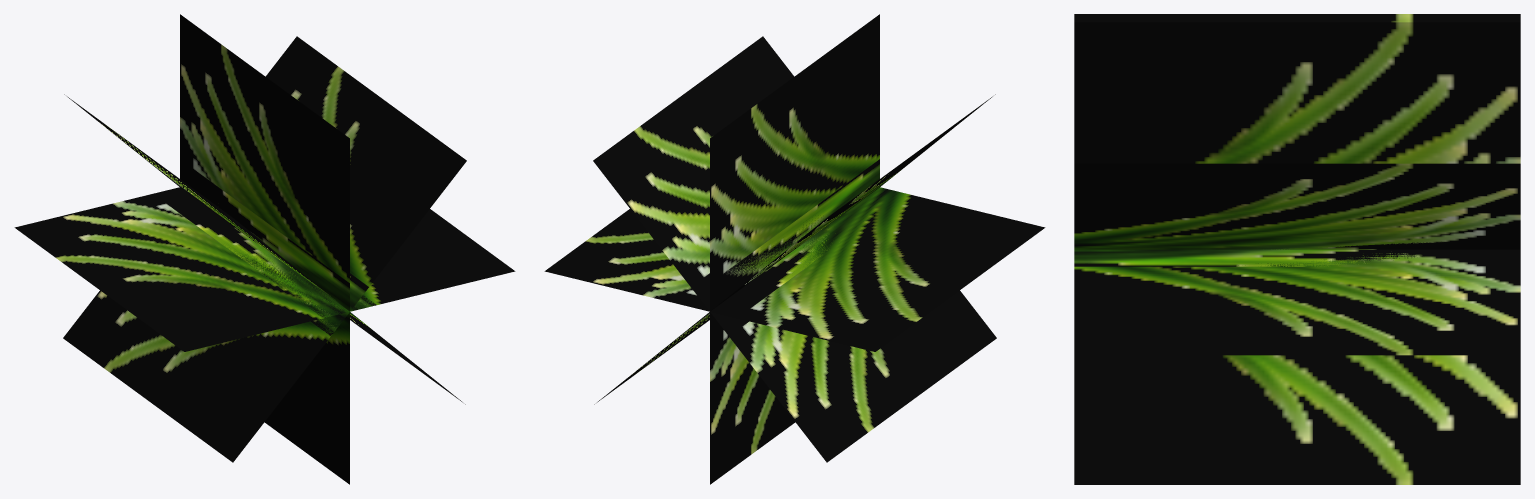
Rendered from Hierba1.fbx.
3 renders of one model, left to right at view 1: azimuth 30°, elevation 25°; view 2: azimuth 150°, elevation 25°; view 3: azimuth 270°, elevation 25°, orthographic. The views are drawn at different scales.
Visible parts, largest first — view 1: arbusto4.007; view 2: arbusto4.007; view 3: arbusto4.007.
Part boxes in pixels (left/top/right/bottom): arbusto4.007: left=14, top=14, right=515, bottom=484; arbusto4.007: left=544, top=14, right=1045, bottom=484; arbusto4.007: left=1074, top=14, right=1520, bottom=484.
Size of the model in its own units: 1.12 by 1 by 1.12.
1 material, 1 textured.
